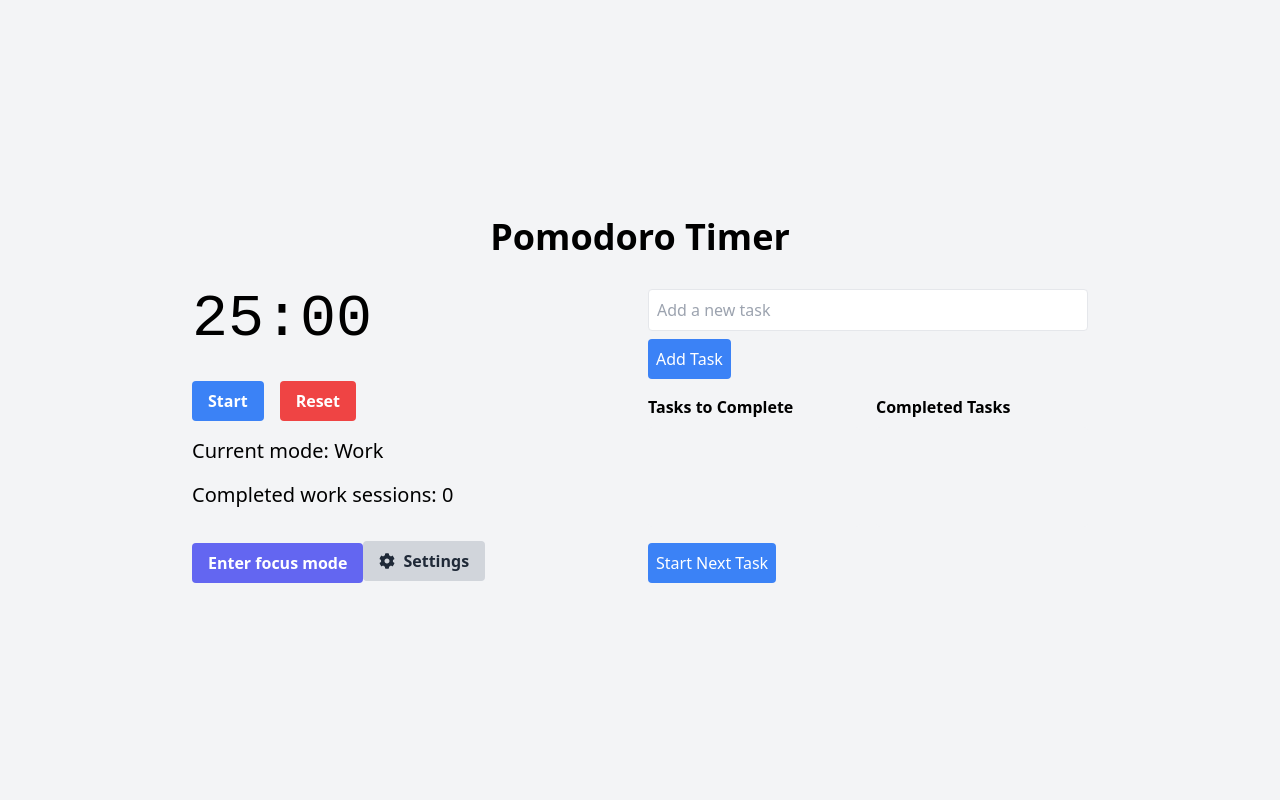
Test case: App – timer logic › enters focus mode and timer keeps running when exiting
Click the button "Start": click(228, 401) [192,381,264,421]
Wait 3000 ms
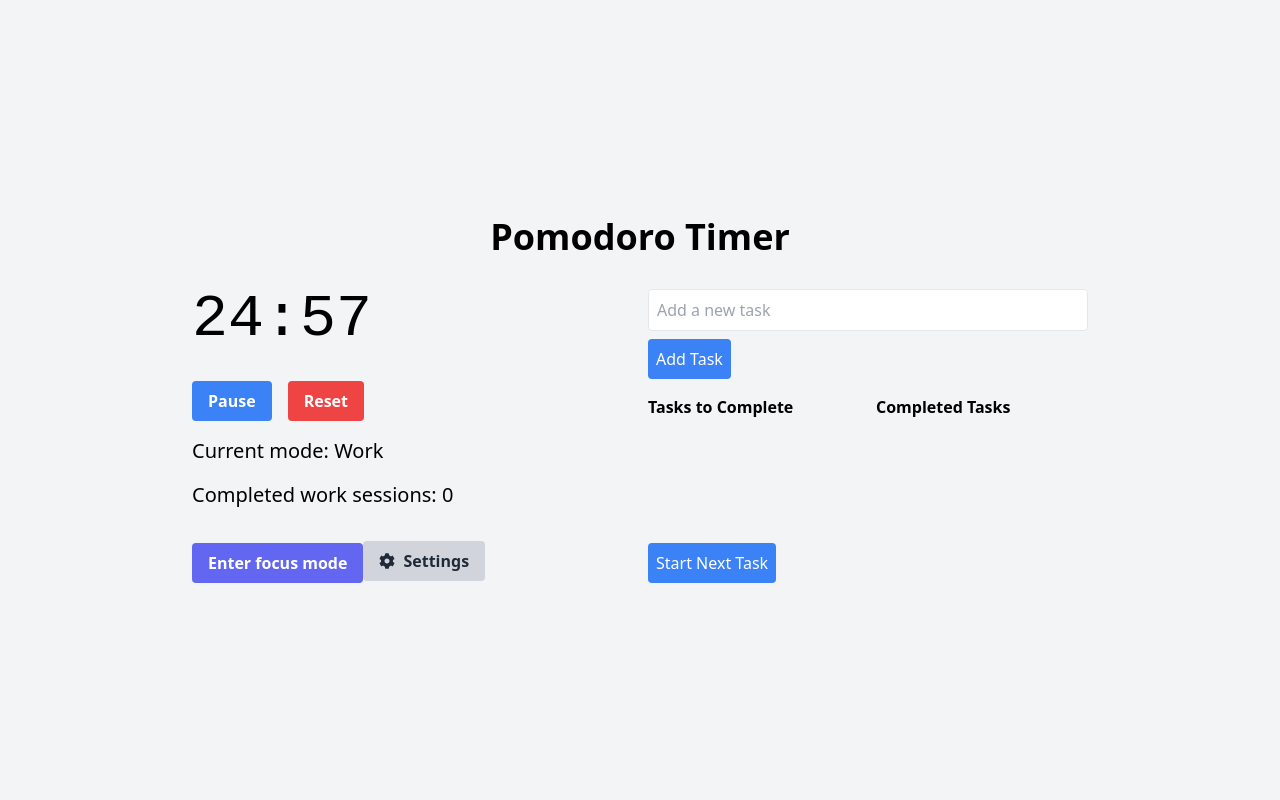
Click the button "Enter focus mode": click(278, 563) [192,543,364,583]
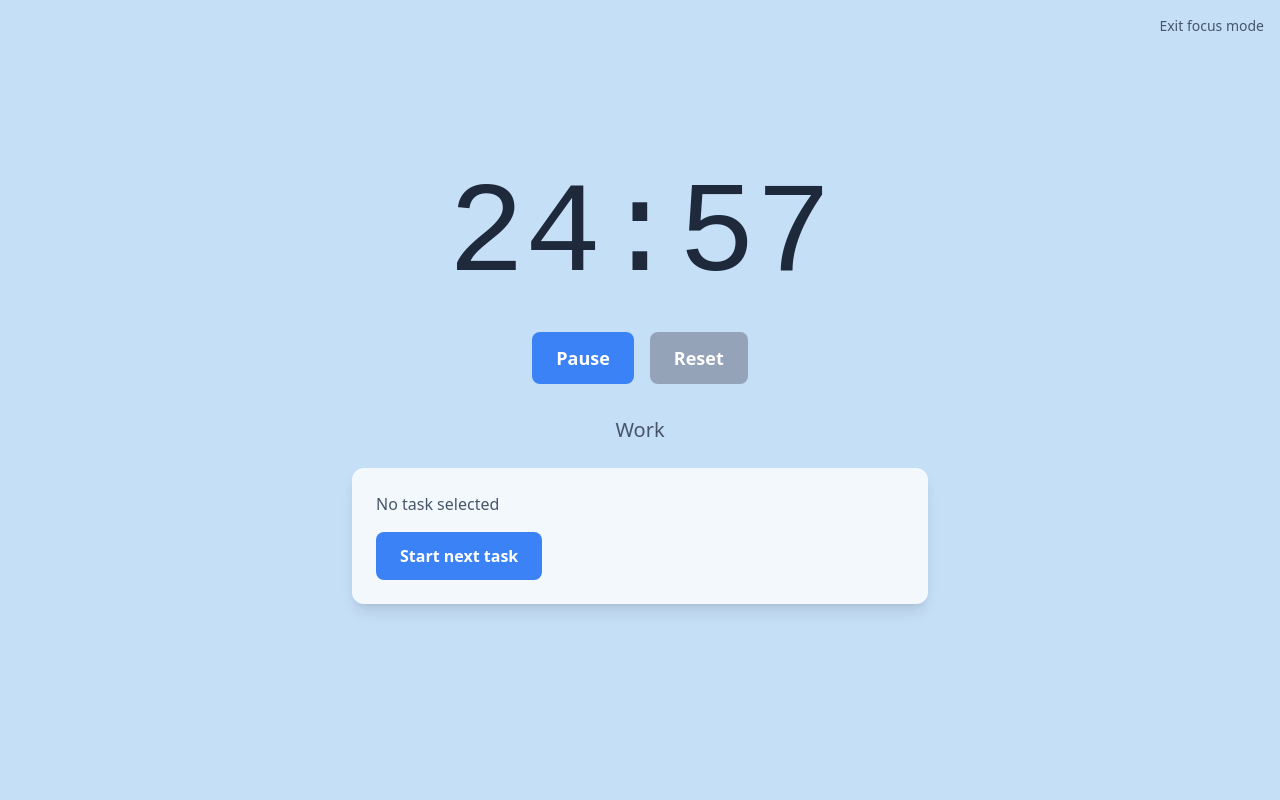
Check: the button "Exit focus mode" is shown
Click the button "Exit focus mode": click(1212, 26) [1159,16,1264,36]
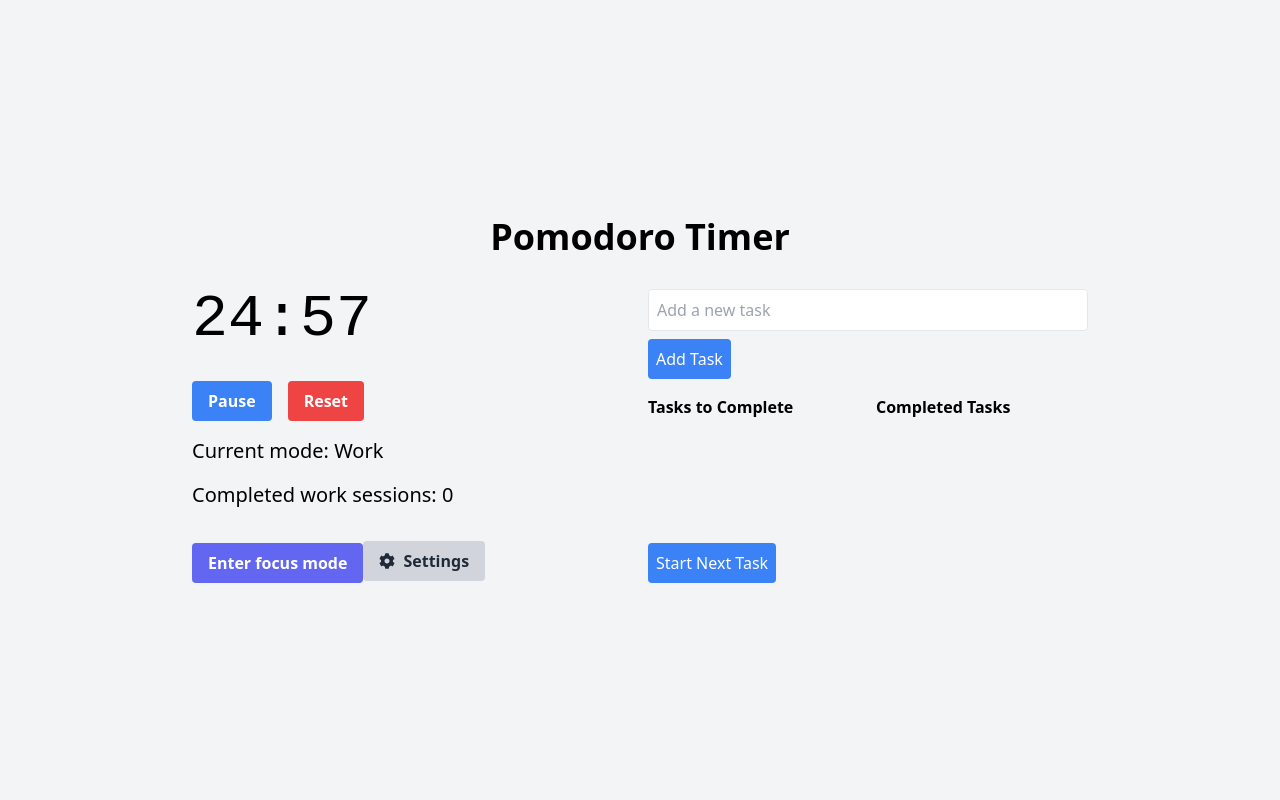
Check: the text "24:57" is shown, box [192,285,372,353]
Check: the button "Enter focus mode" is shown, box [192,543,364,583]
